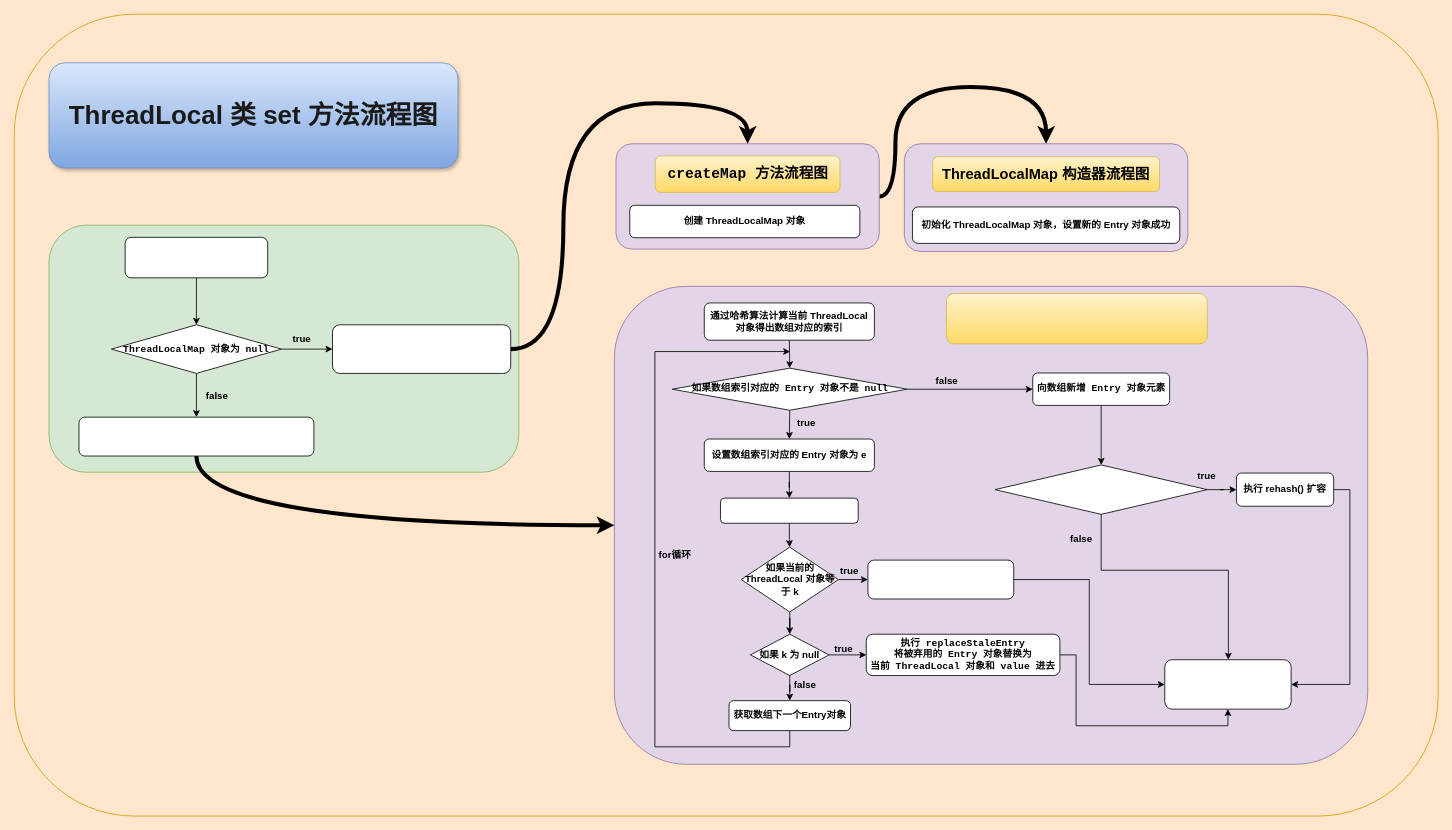
Some shapes in this 1452 by 830 pixel diagram are drawn without their labels. The centre of each missing label's shape, as x and y in pixels:
ThreadLocalMap 类的 set 方法: the point at 1076,318
将 set 方法参数 value 值覆盖到 e 对象的value属性: the point at 940,579
执行 createMap 方法， 创建 ThreadLocalMap 对象: the point at 421,348
执行 getMap 方法， 获取 ThreadLocalMap 对象: the point at 196,257
执行 ThreadLocalMap 内部类的 set 方法: the point at 196,436
清除一些过期的值并且判断是否需要扩容: the point at 1100,489
设置 e 对象的键为 k: the point at 789,510
设置新 Entry 对象成功: the point at 1227,684
